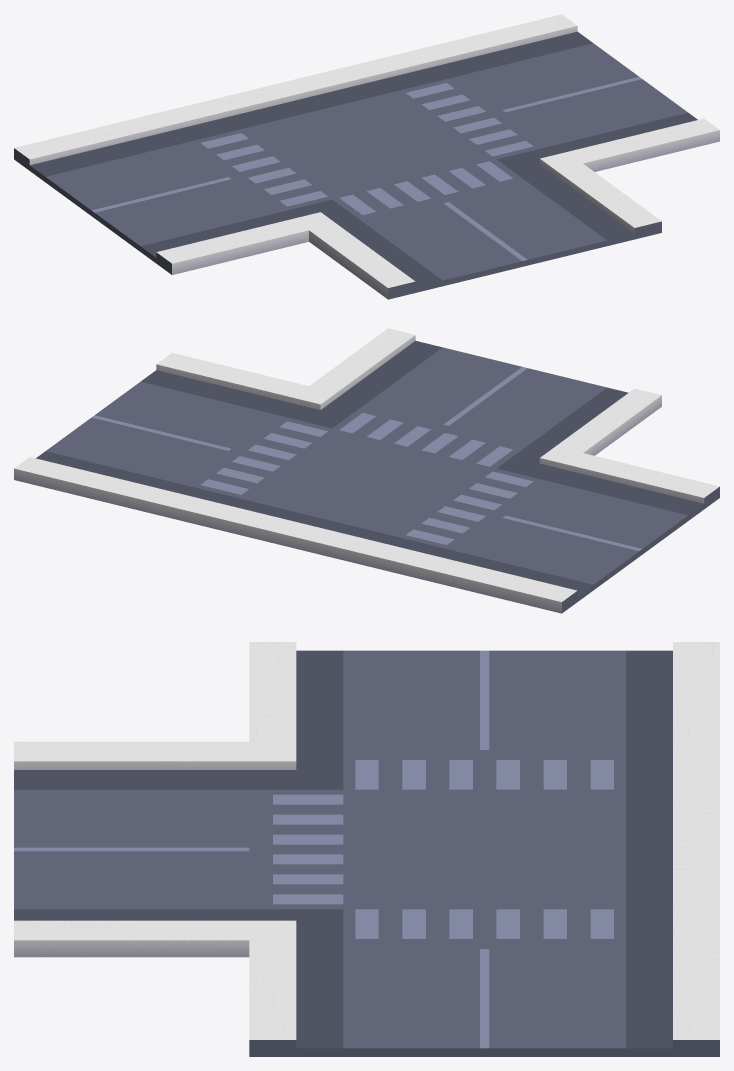
File: road-3way.glb
The picture shows the model from 3 angles, top to bottom: view 1: azimuth 30°, elevation 25°; view 2: azimuth 150°, elevation 25°; view 3: azimuth 270°, elevation 25°; orthographic projection. The views are drawn at different scales.
Visible parts, largest first — view 1: road-intersection-path, road-straight-half.002, road-straight-half.001, road-straight-half; view 2: road-intersection-path, road-straight-half.001, road-straight-half, road-straight-half.002; view 3: road-intersection-path, road-straight-half, road-straight-half.002, road-straight-half.001.
Part boxes in pixels (<box>): road-intersection-path: <box>151,47,582,230</box>; road-straight-half.002: <box>309,163,661,299</box>; road-straight-half.001: <box>14,114,308,274</box>; road-straight-half: <box>425,14,719,171</box>; road-intersection-path: <box>151,386,582,580</box>; road-straight-half.001: <box>425,453,719,613</box>; road-straight-half: <box>14,353,308,513</box>; road-straight-half.002: <box>309,328,661,455</box>; road-intersection-path: <box>249,741,719,948</box>; road-straight-half: <box>249,940,719,1056</box>; road-straight-half.002: <box>14,741,249,957</box>; road-straight-half.001: <box>249,642,719,749</box>.
Bounding box in the file's own units: 1 × 0.02 × 0.75.
2 materials, 2 textured.
